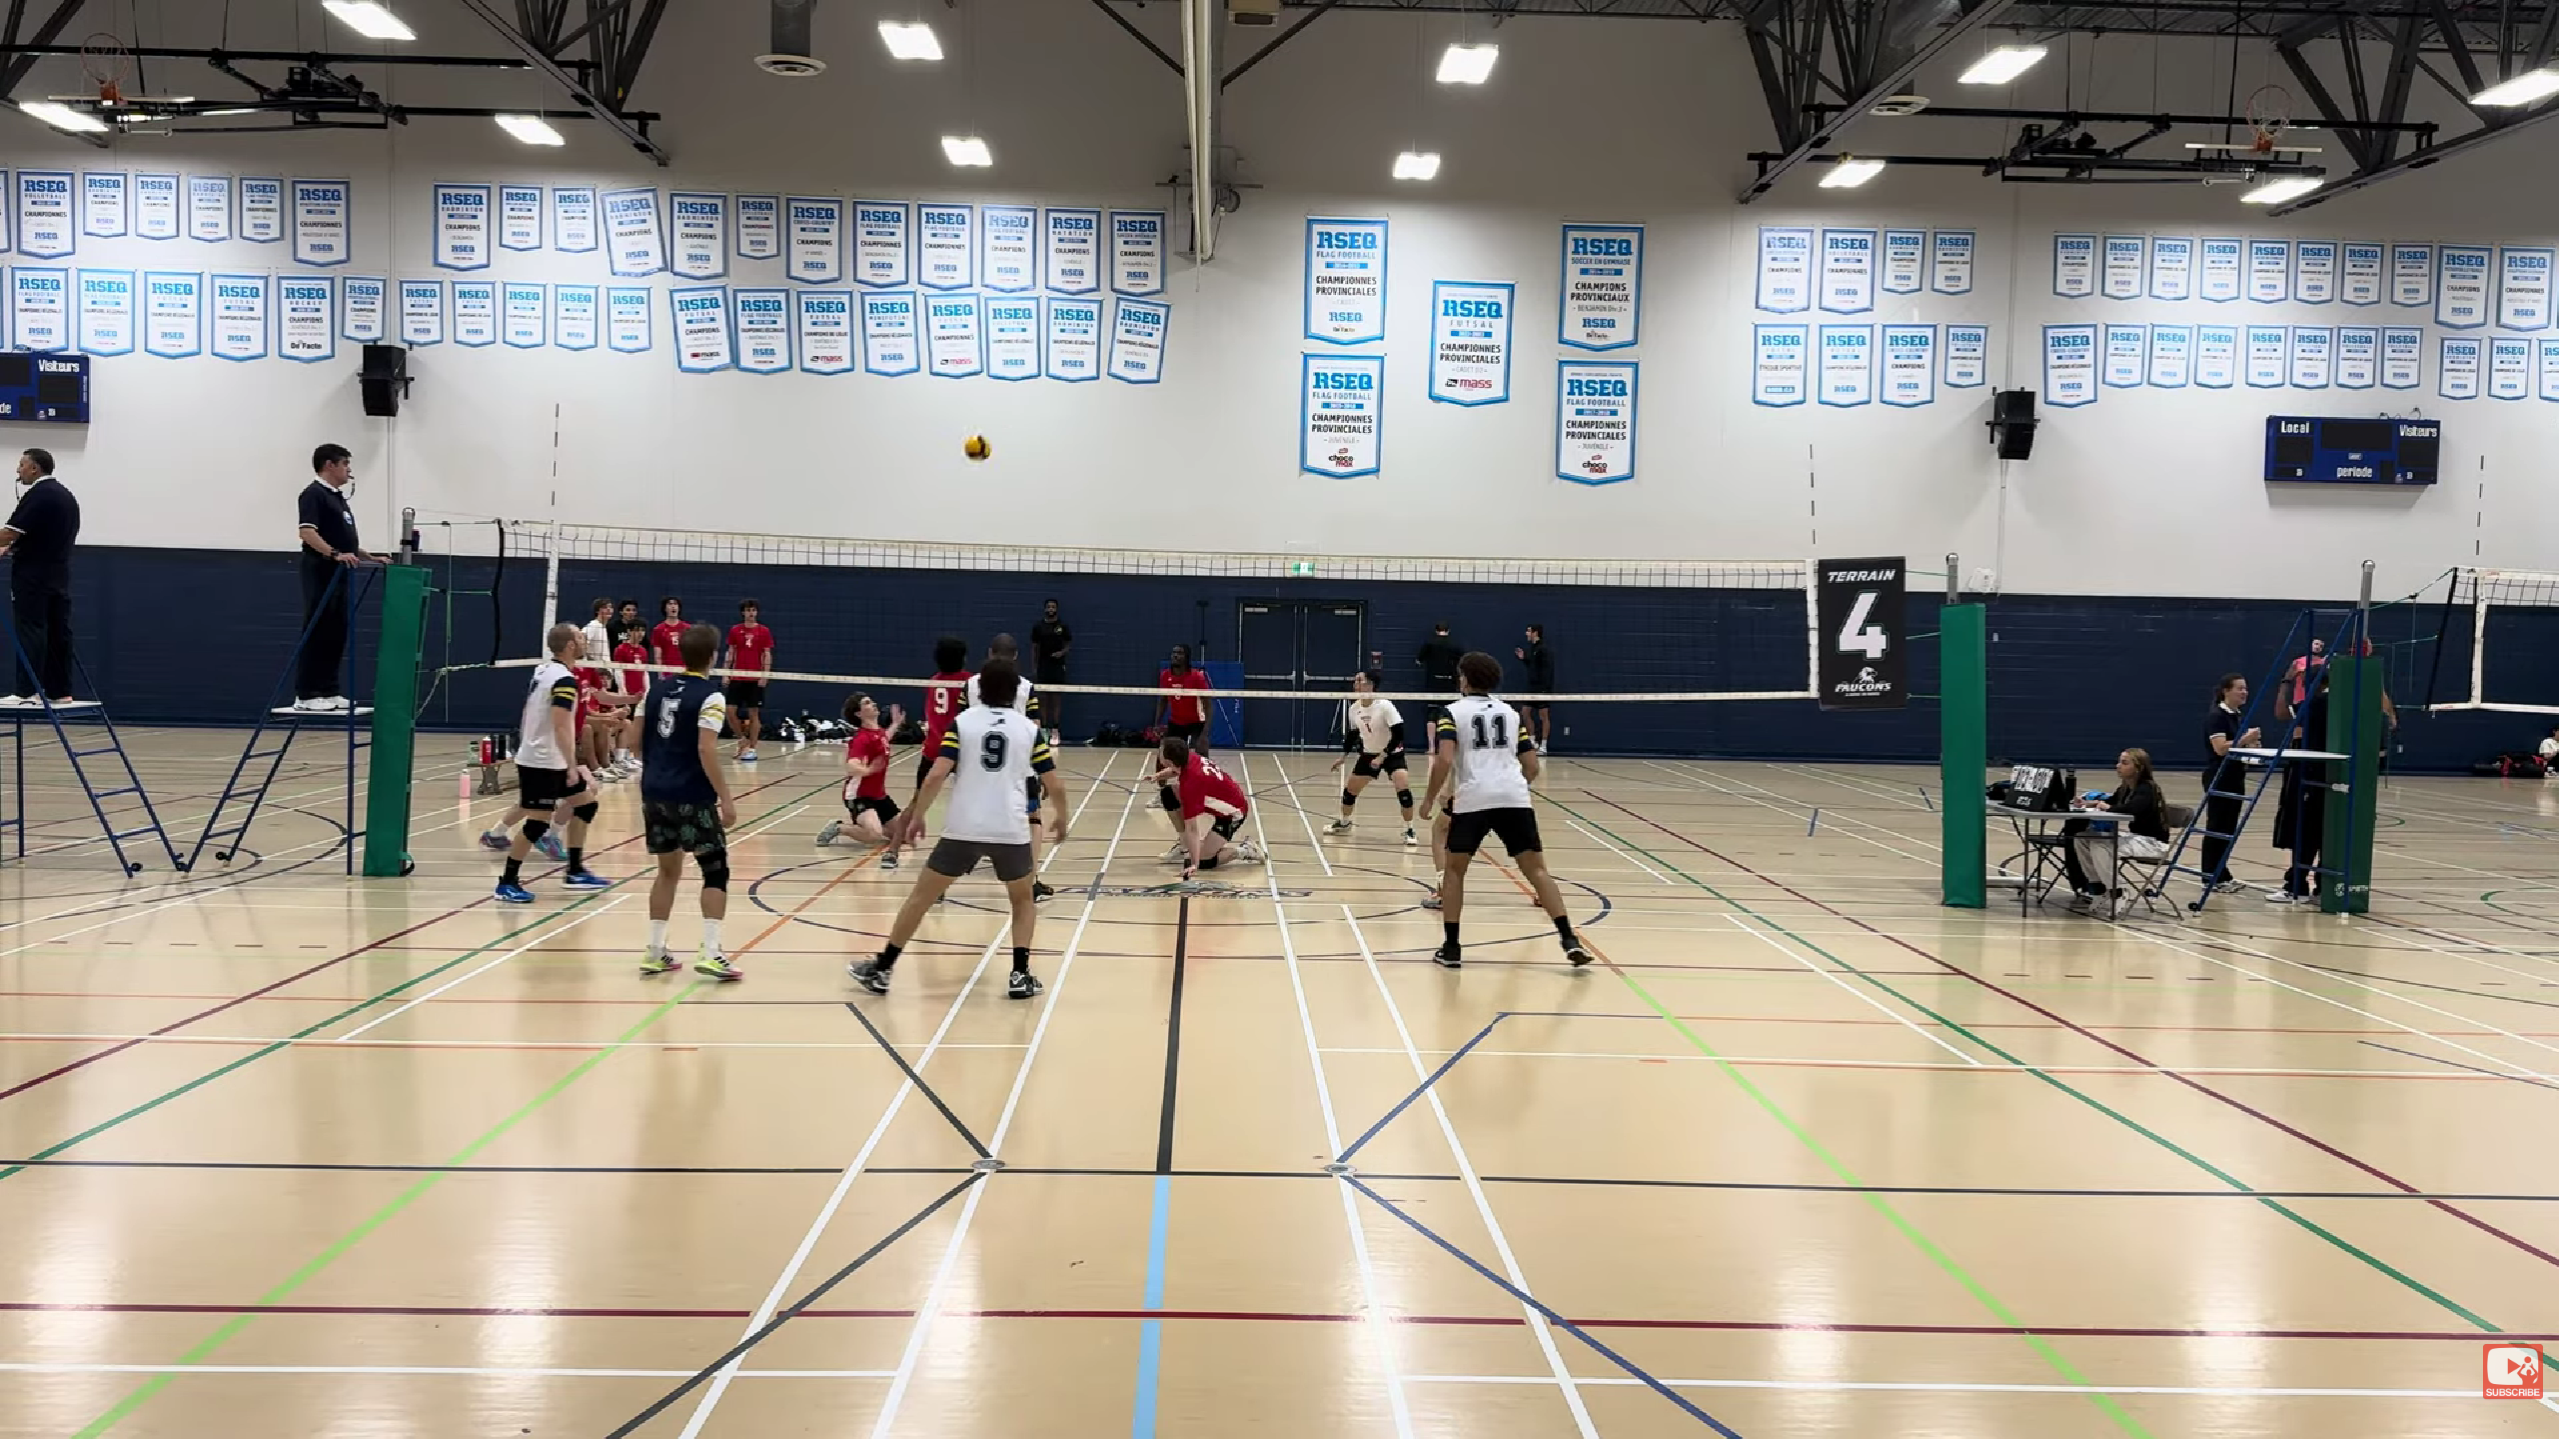Ball: (961, 432, 993, 464)
